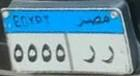5: (40, 42, 53, 66), (55, 42, 67, 63), (13, 42, 24, 64), (26, 42, 37, 62)
raa: (100, 40, 115, 64), (83, 43, 96, 66)
